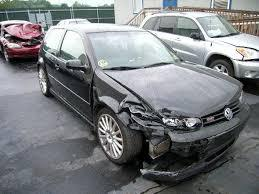fender-dent: (95, 76, 154, 133)
front-bumper-dent: (157, 139, 210, 180)
